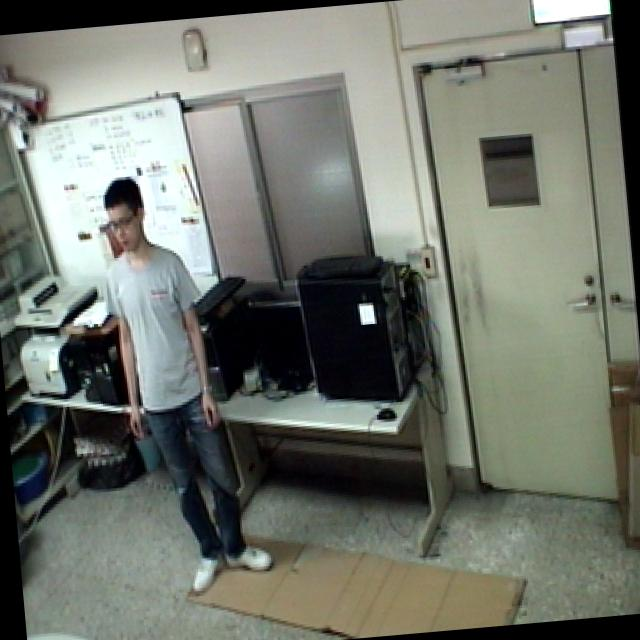stand: (90, 158, 280, 608)
